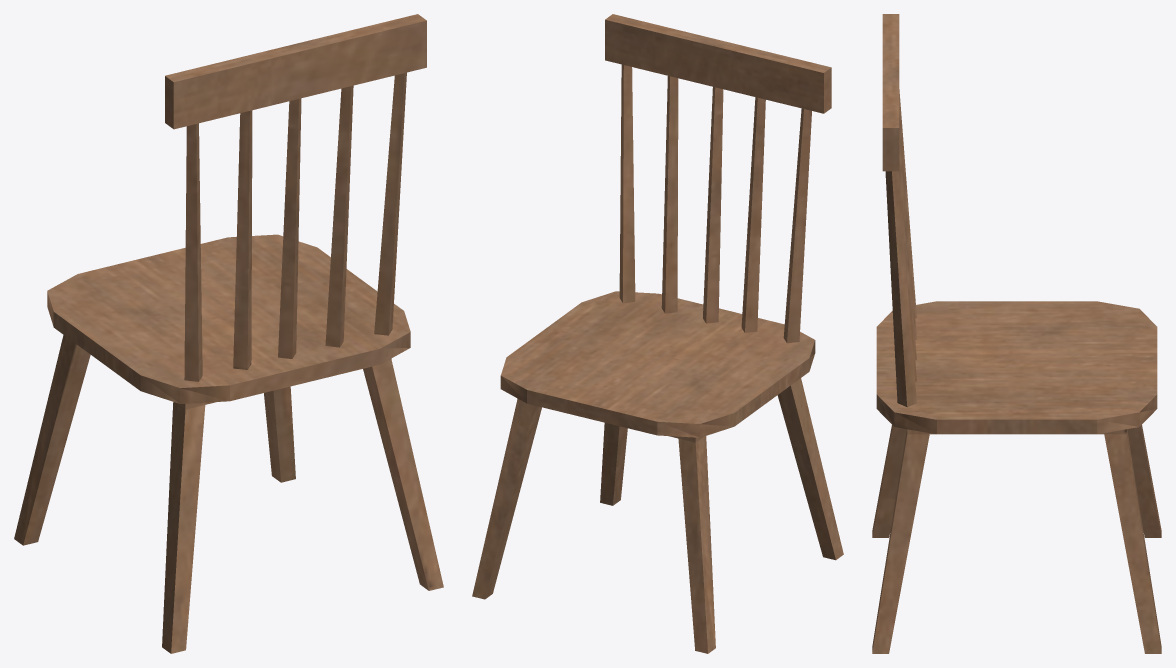
File: cadeira_b.glb
The picture shows the model from 3 angles, left to right: view 1: azimuth 30°, elevation 25°; view 2: azimuth 150°, elevation 25°; view 3: azimuth 270°, elevation 25°; orthographic projection. The views are drawn at different scales.
Visible parts, largest first — view 1: cadeira_b; view 2: cadeira_b; view 3: cadeira_b.
Boxes of the visible parts, x1,y1,x2,y2 form: cadeira_b: (14,14,443,653); cadeira_b: (472,14,843,653); cadeira_b: (872,14,1161,653).
Bounding box in the file's own units: 0.5524 × 1.09 × 0.5509.
1 material, 1 textured.
